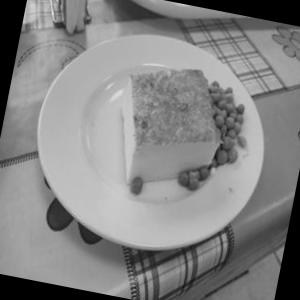casserole: (84, 38, 270, 222)
